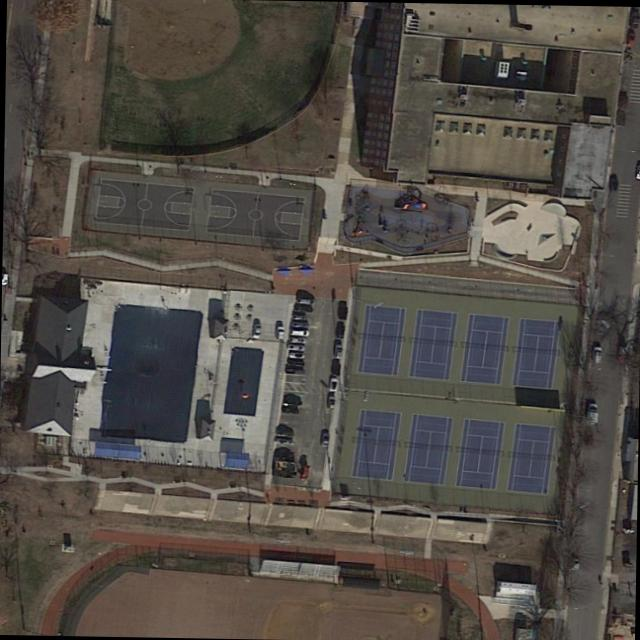small-vehicle: (584, 403, 597, 424), (589, 346, 601, 364), (616, 89, 626, 110), (335, 300, 346, 319), (324, 375, 336, 392), (249, 323, 262, 338), (286, 328, 307, 337), (333, 320, 344, 337), (607, 173, 616, 192), (270, 435, 289, 444), (297, 466, 309, 480), (273, 325, 283, 341), (332, 338, 340, 358), (568, 557, 579, 571), (329, 357, 338, 374), (272, 429, 291, 437), (614, 110, 624, 125), (319, 430, 328, 446), (287, 336, 304, 344), (288, 319, 305, 327), (285, 351, 302, 359), (286, 358, 303, 366), (279, 401, 298, 408), (285, 343, 304, 350), (292, 304, 311, 311), (284, 366, 303, 373), (325, 394, 333, 409), (294, 297, 313, 303), (278, 407, 296, 413), (290, 311, 307, 317)
